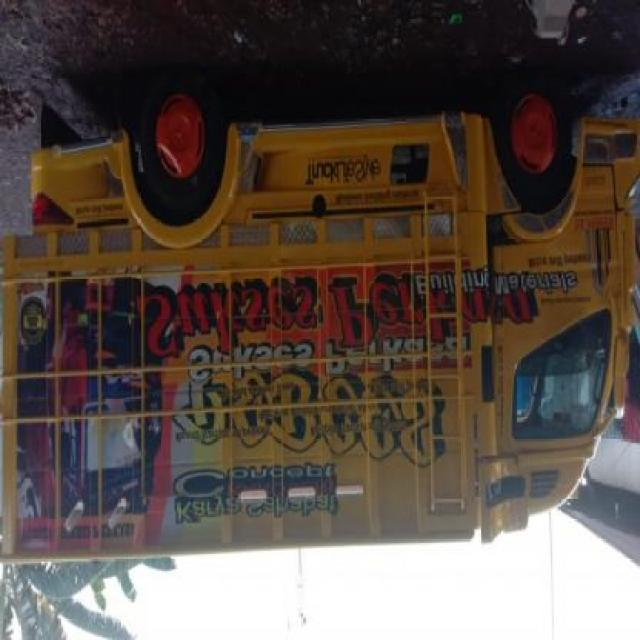truck: (1, 74, 640, 566)
